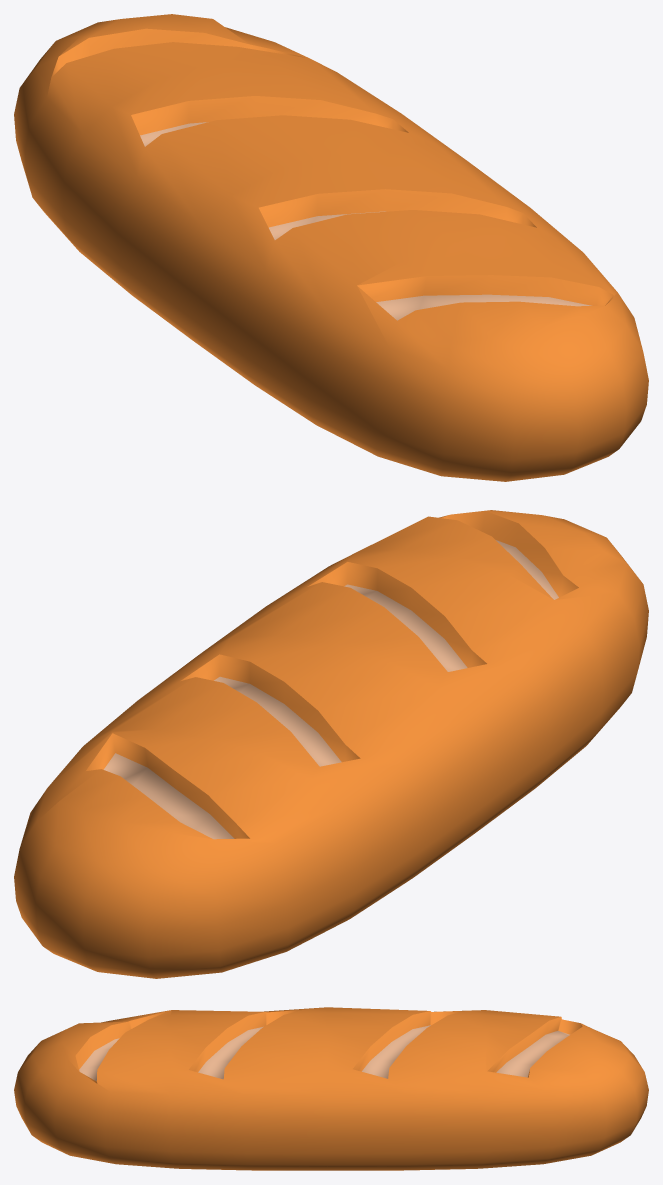
The model's file is baguette_fixed.fbx.
3 views of the same model, one above another, from view 1: azimuth 30°, elevation 25°; view 2: azimuth 150°, elevation 25°; view 3: azimuth 270°, elevation 25° (orthographic). The views are drawn at different scales.
Parts seen in each view (by area): view 1: baguette; view 2: baguette; view 3: baguette.
Boxes of the visible parts, x1=… form: baguette: x1=14, y1=14, x2=648, y2=481; baguette: x1=14, y1=510, x2=648, y2=978; baguette: x1=14, y1=1007, x2=648, y2=1170.
Bounding box in the file's own units: 430 × 231 × 1209.
